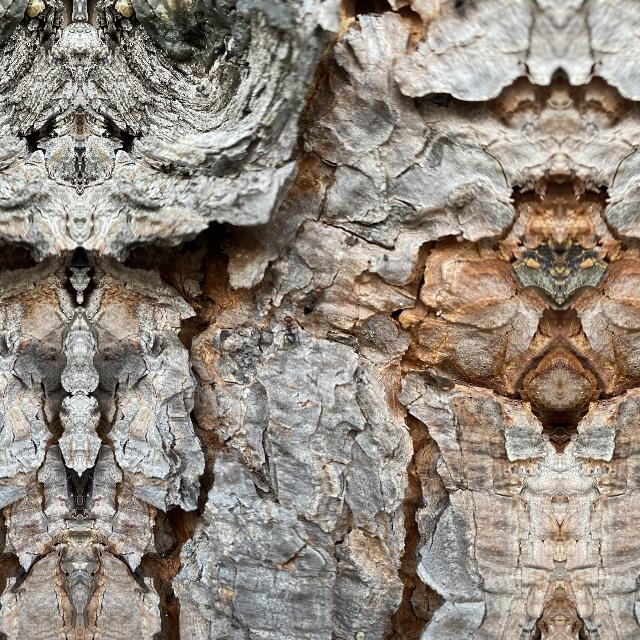Crematogaster: (297, 279, 327, 315), (279, 306, 299, 348)
